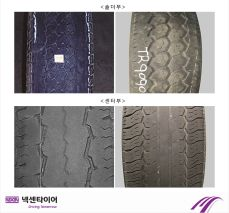bad_condition: (18, 107, 115, 186), (122, 106, 205, 188), (131, 13, 200, 88), (29, 13, 92, 92)
